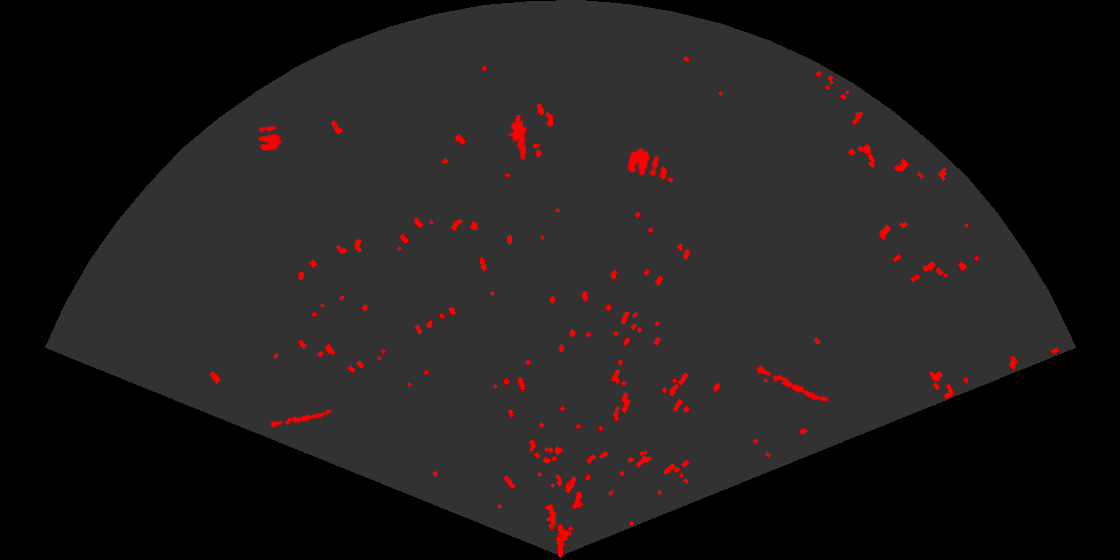ball: (626, 146, 661, 178), (256, 124, 283, 152)
chain: (748, 362, 831, 403), (269, 408, 334, 430)
frogman: (507, 115, 529, 161)
